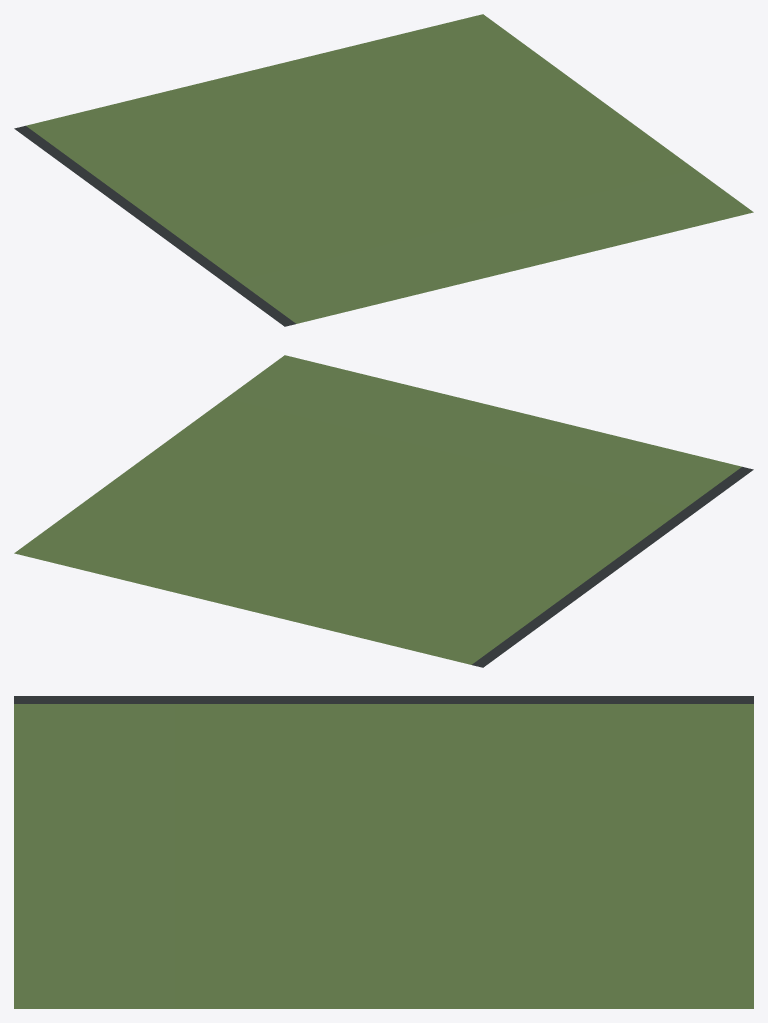
File: RoadPart_03.fbx
3 views of the same model, one above another, from view 1: azimuth 30°, elevation 25°; view 2: azimuth 150°, elevation 25°; view 3: azimuth 270°, elevation 25° (orthographic). The views are drawn at different scales.
Parts seen in each view (by area): view 1: RoadPart_03; view 2: RoadPart_03; view 3: RoadPart_03.
Part boxes in pixels (x1=…): RoadPart_03: x1=14, y1=14, x2=753, y2=326; RoadPart_03: x1=14, y1=355, x2=753, y2=667; RoadPart_03: x1=14, y1=696, x2=753, y2=1008.
Bounding box in the file's own units: 3 × 4.88e-07 × 3.
